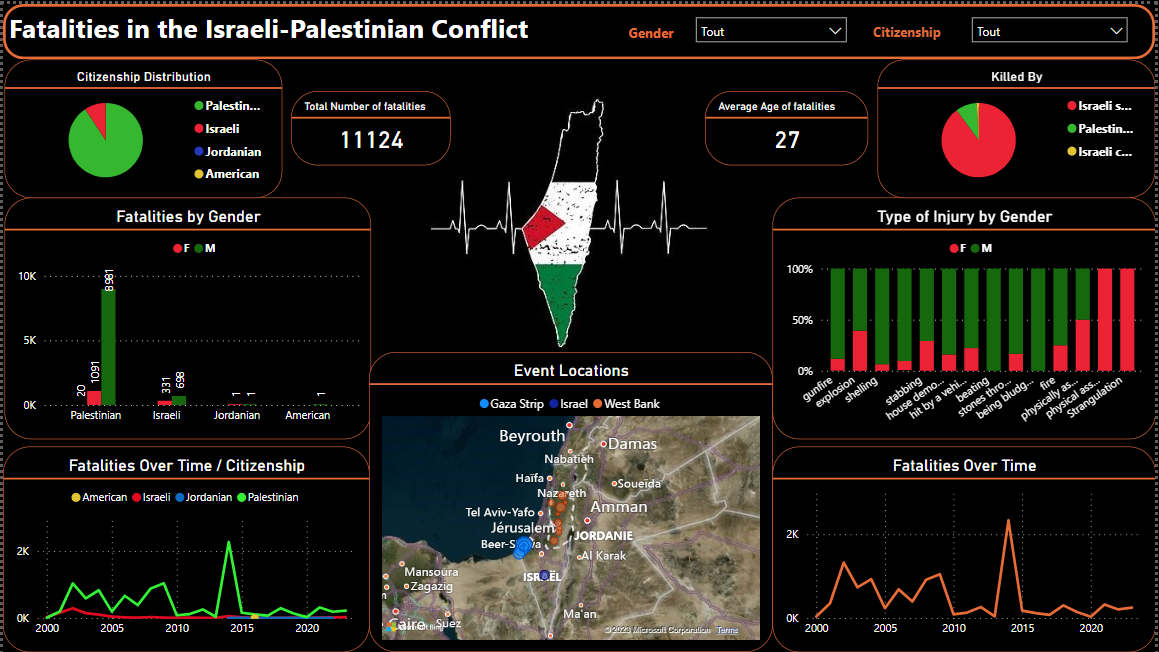

What the dashboard file says about the page in this screenshot:
{"tool":"powerbi","page":{"name":"Page 1","canvas":[1280,720],"ordinal":0},"visuals":[{"type":"image","box":[406.7,96.7,448.3,290],"z":0},{"type":"shape","box":[0,0,1280,61.4],"z":1000},{"type":"card","title":"Total Number of fatalities","fields":{"Values":["My Measures.Number of fatalities"]},"box":[320,97.1,177.1,82.9],"z":2000},{"type":"card","title":"Average Age of fatalities","fields":{"Values":["My Measures.Average Age"]},"box":[780,97.1,181.4,82.9],"z":3000},{"type":"slicer","title":"GENDER","fields":{"Values":["fatalities_isr_pse_conflict_2000_to_2023.gender"]},"box":[760,5.7,187.1,50],"z":4000},{"type":"slicer","title":"CITIZENSHIP","fields":{"Values":["fatalities_isr_pse_conflict_2000_to_2023.citizenship"]},"box":[1067.1,5.7,192.9,50],"z":5000},{"type":"lineChart","title":"Fatalities Over Time","fields":{"Y":["CountNonNull(fatalities_isr_pse_conflict_2000_to_2023.date_of_event)"],"Category":["Date.Date.Variation.Hiérarchie de dates.Année"]},"box":[854.3,491.4,425.7,228.6],"z":6000},{"type":"lineChart","title":"Fatalities Over Time / Citizenship","fields":{"Y":["CountNonNull(fatalities_isr_pse_conflict_2000_to_2023.date_of_event)"],"Category":["Date.Date.Variation.Hiérarchie de dates.Année"],"Series":["fatalities_isr_pse_conflict_2000_to_2023.citizenship"]},"box":[0,491.4,407.1,228.6],"z":7000},{"type":"clusteredColumnChart","title":"Fatalities by Gender","fields":{"Y":["CountNonNull(fatalities_isr_pse_conflict_2000_to_2023.date_of_event)"],"Category":["fatalities_isr_pse_conflict_2000_to_2023.citizenship"],"Series":["fatalities_isr_pse_conflict_2000_to_2023.gender"]},"box":[1.4,215.7,407.1,268.6],"z":8000},{"type":"map","title":"Event Locations","fields":{"Size":["CountNonNull(fatalities_isr_pse_conflict_2000_to_2023.killed_by)"],"Category":["fatalities_isr_pse_conflict_2000_to_2023.event_location_district"],"Series":["fatalities_isr_pse_conflict_2000_to_2023.event_location_region"]},"box":[406.7,386.7,448.3,333.3],"z":9000},{"type":"hundredPercentStackedColumnChart","title":"Type of Injury by Gender","fields":{"Category":["fatalities_isr_pse_conflict_2000_to_2023.type_of_injury"],"Series":["fatalities_isr_pse_conflict_2000_to_2023.gender"],"Y":["My Measures.Number of fatalities"]},"box":[854.3,215.7,425.7,268.6],"z":10000},{"type":"donutChart","title":"Citizenship Distribution","fields":{"Category":["fatalities_isr_pse_conflict_2000_to_2023.citizenship"],"Y":["CountNonNull(fatalities_isr_pse_conflict_2000_to_2023.citizenship)"]},"box":[1.4,61.4,308.6,154.3],"z":11000},{"type":"donutChart","title":"Killed By","fields":{"Category":["fatalities_isr_pse_conflict_2000_to_2023.killed_by"],"Y":["CountNonNull(fatalities_isr_pse_conflict_2000_to_2023.killed_by)"]},"box":[971.4,61.4,308.6,154.3],"z":12000},{"type":"textbox","box":[961.4,15.7,105.7,30],"z":13000},{"type":"textbox","box":[689.8,15.9,69.9,30.2],"z":14000}]}

Visuals, with their boxes in screenshot pixels (x1, y1, x2, y2), scaled from the page's 1280x720 canvas onto the 1159x652 screenshot:
image: BBox(368, 88, 774, 350)
shape: BBox(0, 0, 1158, 56)
"Total Number of fatalities" card: BBox(290, 88, 450, 163)
"Average Age of fatalities" card: BBox(706, 88, 871, 163)
"GENDER" slicer: BBox(688, 5, 858, 50)
"CITIZENSHIP" slicer: BBox(966, 5, 1141, 50)
"Fatalities Over Time" lineChart: BBox(774, 445, 1158, 651)
"Fatalities Over Time / Citizenship" lineChart: BBox(0, 445, 369, 651)
"Fatalities by Gender" clusteredColumnChart: BBox(1, 195, 370, 439)
"Event Locations" map: BBox(368, 350, 774, 651)
"Type of Injury by Gender" hundredPercentStackedColumnChart: BBox(774, 195, 1158, 439)
"Citizenship Distribution" donutChart: BBox(1, 56, 281, 195)
"Killed By" donutChart: BBox(880, 56, 1158, 195)
textbox: BBox(871, 14, 966, 41)
textbox: BBox(625, 14, 688, 42)
